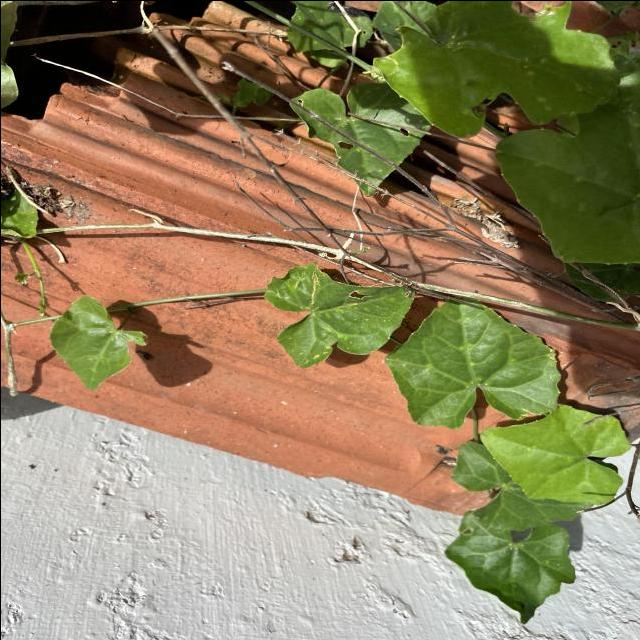Coccinia grandis: (382, 295, 562, 429), (262, 260, 416, 369), (478, 402, 632, 505)
